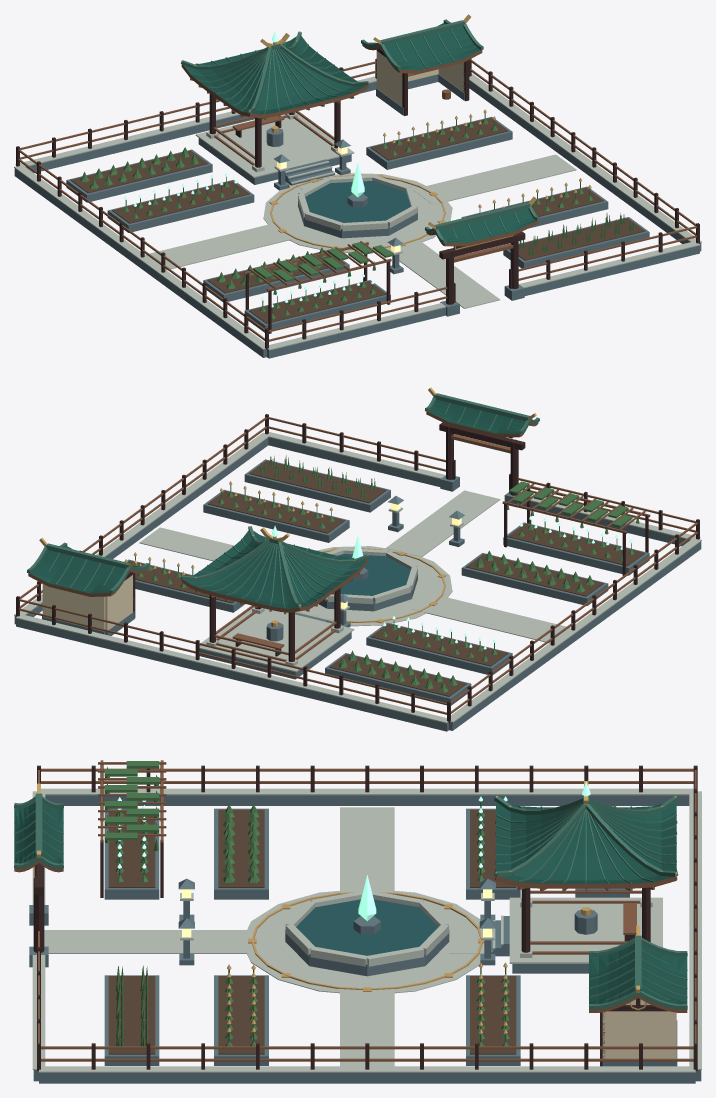
Rendered from spirit_herb_garden.glb.
The picture shows the model from 3 angles, top to bottom: view 1: azimuth 30°, elevation 25°; view 2: azimuth 150°, elevation 25°; view 3: azimuth 270°, elevation 25°; orthographic projection. The views are drawn at different scales.
Visible parts, largest first — view 1: SpiritHerbGarden / Coping, SpiritHerbGarden / Stone, SpiritHerbGarden / Soil, SpiritHerbGarden / Cedar, SpiritHerbGarden / Jade, SpiritHerbGarden / Timber, SpiritHerbGarden / Leaf, SpiritHerbGarden / TileLight, SpiritHerbGarden / Water, SpiritHerbGarden / Plaster, SpiritHerbGarden / Bronze, SpiritHerbGarden / SpiritHerb; view 2: SpiritHerbGarden / Stone, SpiritHerbGarden / Coping, SpiritHerbGarden / Cedar, SpiritHerbGarden / Soil, SpiritHerbGarden / Jade, SpiritHerbGarden / Timber, SpiritHerbGarden / Leaf, SpiritHerbGarden / TileLight, SpiritHerbGarden / Plaster, SpiritHerbGarden / Water, SpiritHerbGarden / Bronze, SpiritHerbGarden / SpiritHerb; view 3: SpiritHerbGarden / Coping, SpiritHerbGarden / Stone, SpiritHerbGarden / Jade, SpiritHerbGarden / Soil, SpiritHerbGarden / Cedar, SpiritHerbGarden / TileLight, SpiritHerbGarden / Leaf, SpiritHerbGarden / Timber, SpiritHerbGarden / Water, SpiritHerbGarden / Plaster, SpiritHerbGarden / Bronze, SpiritHerbGarden / SpiritHerb.
Boxes of the visible parts, x1,y1,x2,y2 form: SpiritHerbGarden / Coping: (14,73,701,350); SpiritHerbGarden / Stone: (14,73,701,358); SpiritHerbGarden / Soil: (70,117,645,323); SpiritHerbGarden / Cedar: (18,44,696,341); SpiritHerbGarden / Jade: (183,23,536,242); SpiritHerbGarden / Timber: (16,48,699,349); SpiritHerbGarden / Leaf: (80,113,634,318); SpiritHerbGarden / TileLight: (181,19,539,243); SpiritHerbGarden / Water: (305,181,410,222); SpiritHerbGarden / Plaster: (376,51,464,106); SpiritHerbGarden / Bronze: (181,14,591,249); SpiritHerbGarden / SpiritHerb: (124,31,374,307); SpiritHerbGarden / Stone: (14,437,701,731); SpiritHerbGarden / Coping: (14,432,701,723); SpiritHerbGarden / Cedar: (19,411,697,714); SpiritHerbGarden / Soil: (127,460,645,696); SpiritHerbGarden / Jade: (30,399,525,608); SpiritHerbGarden / Timber: (16,414,699,722); SpiritHerbGarden / Leaf: (133,455,639,692); SpiritHerbGarden / TileLight: (27,393,539,608); SpiritHerbGarden / Plaster: (42,575,134,631); SpiritHerbGarden / Water: (339,554,410,595); SpiritHerbGarden / Bronze: (39,387,536,626); SpiritHerbGarden / SpiritHerb: (272,516,632,649); SpiritHerbGarden / Coping: (32,788,701,1072); SpiritHerbGarden / Stone: (29,795,701,1083); SpiritHerbGarden / Jade: (14,802,687,1004); SpiritHerbGarden / Soil: (108,809,516,1054); SpiritHerbGarden / Cedar: (14,760,696,1061); SpiritHerbGarden / TileLight: (14,793,687,1009); SpiritHerbGarden / Leaf: (104,761,616,1046); SpiritHerbGarden / Timber: (33,765,697,1070); SpiritHerbGarden / Water: (296,899,438,955); SpiritHerbGarden / Plaster: (602,999,676,1058); SpiritHerbGarden / Bronze: (33,781,677,1034); SpiritHerbGarden / SpiritHerb: (117,781,590,921).
Size of the model in its own units: 24.46 by 6.51 by 25.14.
